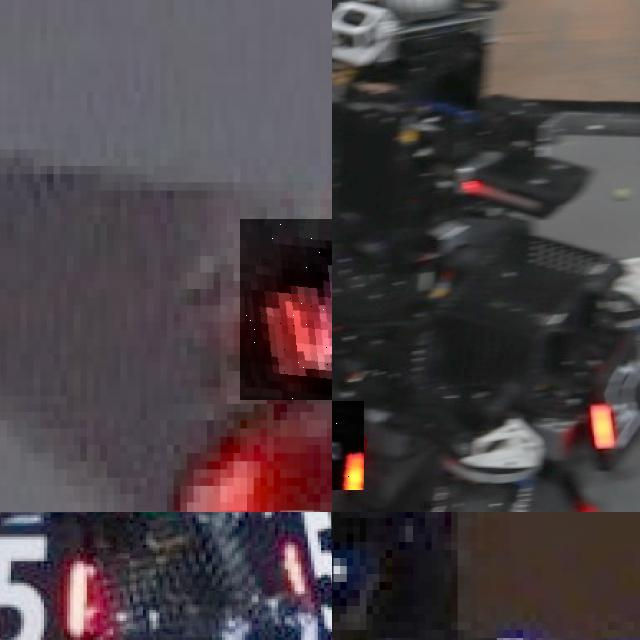R2: (240, 219, 332, 399)
R5: (0, 531, 80, 640), (284, 512, 332, 626)
Rs: (588, 348, 640, 452), (332, 400, 364, 490)
